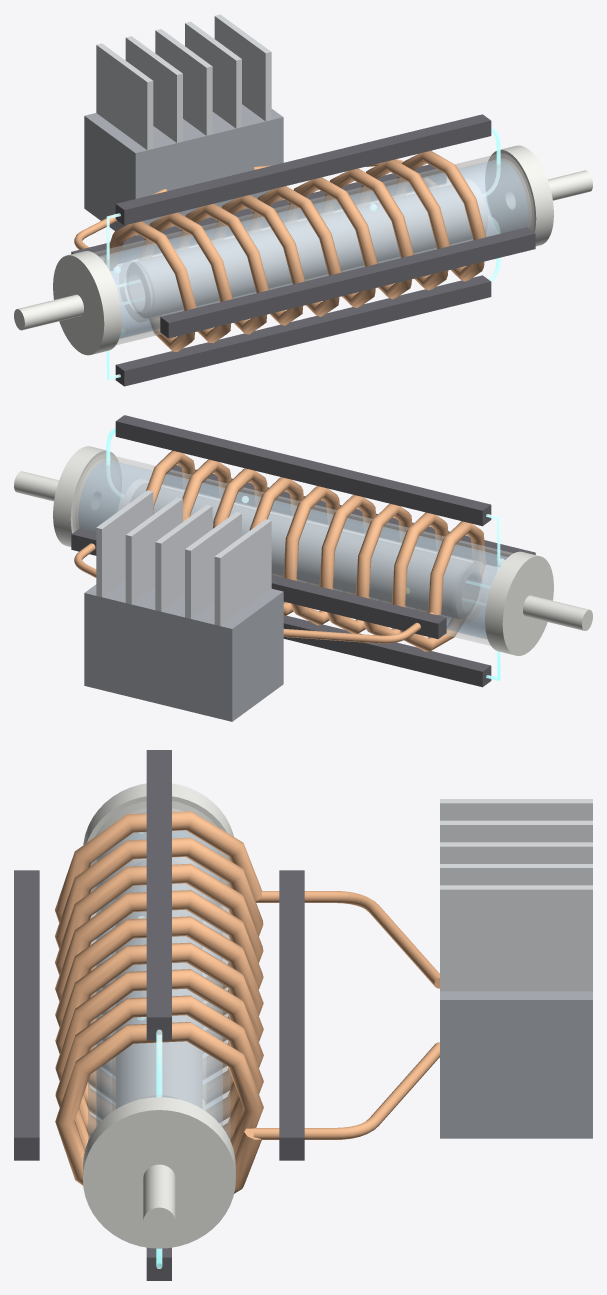
File: induction.glb
The picture shows the model from 3 angles, top to bottom: view 1: azimuth 30°, elevation 25°; view 2: azimuth 150°, elevation 25°; view 3: azimuth 270°, elevation 25°; orthographic projection. The views are drawn at different scales.
Visible parts, largest first — view 1: 外管, 药液, 感应线圈, 发热体包覆, 逆变电源, 磁芯1, 磁芯2, 磁芯3, 端盖-1, 端盖1, 散热片0, 散热片2 (+7 smaller); view 2: 逆变电源, 外管, 药液, 感应线圈, 发热体包覆, 磁芯1, 端盖-1, 端盖1, 磁芯0, 散热片0, 磁芯3, 磁芯2 (+8 smaller); view 3: 感应线圈, 逆变电源, 端盖1, 散热片4, 外管, 药液, 磁芯0, 磁芯2, 磁芯1, 发热体包覆, 端盖-1, 散热片1 (+7 smaller).
Boxes of the visible parts, bbox=[...] form: 外管: bbox=[93, 153, 534, 345]; 药液: bbox=[100, 160, 528, 337]; 感应线圈: bbox=[104, 151, 486, 351]; 发热体包覆: bbox=[119, 179, 487, 321]; 逆变电源: bbox=[84, 104, 283, 236]; 磁芯1: bbox=[115, 114, 491, 225]; 磁芯2: bbox=[160, 227, 535, 338]; 磁芯3: bbox=[115, 275, 491, 386]; 端盖-1: bbox=[53, 251, 121, 355]; 端盖1: bbox=[485, 145, 553, 246]; 散热片0: bbox=[96, 43, 153, 150]; 散热片2: bbox=[155, 29, 212, 135]; 逆变电源: bbox=[84, 580, 283, 721]; 外管: bbox=[72, 454, 512, 645]; 药液: bbox=[78, 461, 506, 638]; 感应线圈: bbox=[146, 450, 485, 651]; 发热体包覆: bbox=[121, 479, 487, 622]; 磁芯1: bbox=[115, 415, 491, 526]; 端盖-1: bbox=[485, 551, 553, 655]; 端盖1: bbox=[53, 446, 121, 546]; 磁芯0: bbox=[71, 528, 446, 638]; 散热片0: bbox=[214, 519, 271, 625]; 磁芯3: bbox=[283, 615, 491, 687]; 磁芯2: bbox=[162, 465, 535, 566]; 感应线圈: bbox=[55, 811, 263, 1193]; 逆变电源: bbox=[440, 991, 592, 1138]; 端盖1: bbox=[83, 1097, 235, 1248]; 散热片4: bbox=[440, 885, 592, 991]; 外管: bbox=[88, 801, 230, 1140]; 药液: bbox=[97, 811, 221, 1125]; 磁芯0: bbox=[279, 870, 304, 1160]; 磁芯2: bbox=[14, 870, 39, 1160]; 磁芯1: bbox=[146, 750, 171, 1040]; 发热体包覆: bbox=[112, 857, 205, 1110]; 端盖-1: bbox=[83, 783, 233, 909]; 散热片1: bbox=[440, 820, 592, 842].
Bounding box in the file's own units: 1.92 × 0.655 × 1.14.
